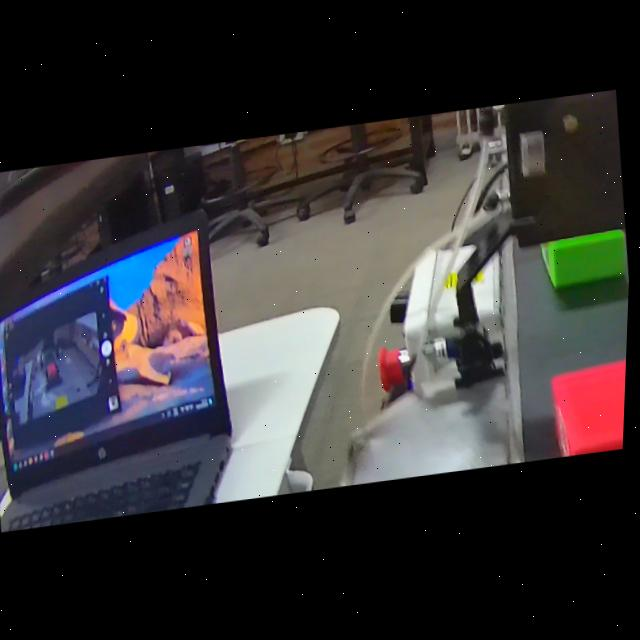greenBox: (535, 226, 633, 303)
redBox: (545, 353, 629, 462)
